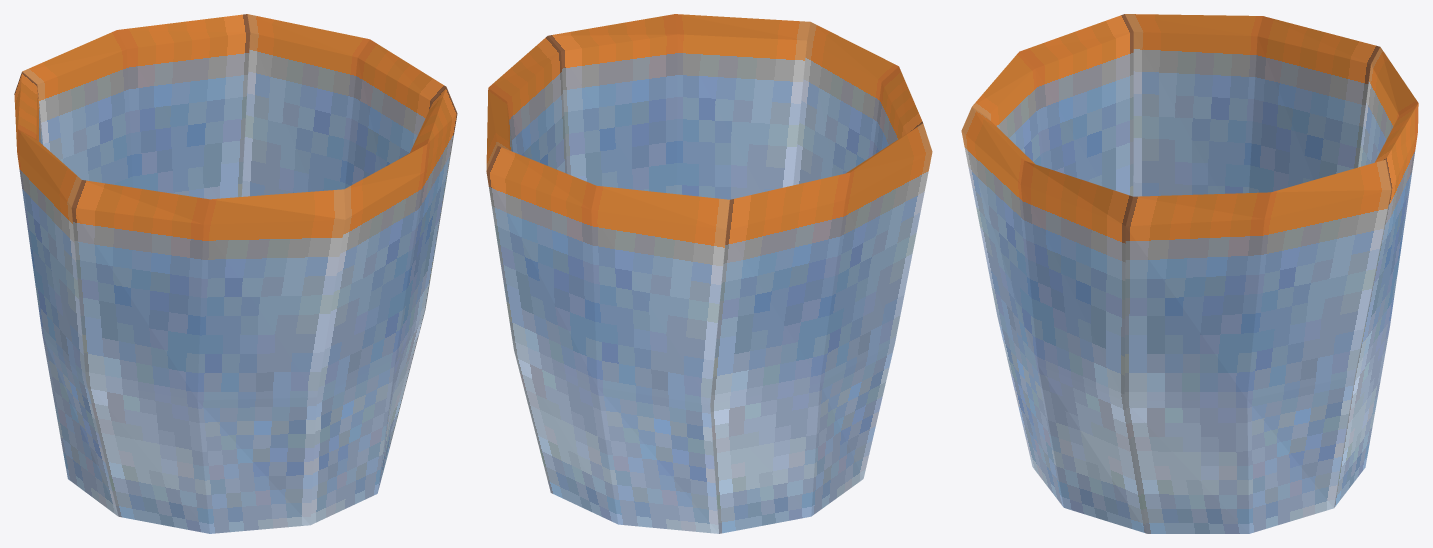
File: HoopNet02.glb
3 views of the same model, side by side, from view 1: azimuth 30°, elevation 25°; view 2: azimuth 150°, elevation 25°; view 3: azimuth 270°, elevation 25° (orthographic).
Visible parts, largest first — view 1: HoopNet02; view 2: HoopNet02; view 3: HoopNet02.
Boxes of the visible parts, box(x1,y1,x2,y2) form: HoopNet02: box(14, 14, 457, 533); HoopNet02: box(486, 14, 932, 533); HoopNet02: box(961, 14, 1418, 533).
Size of the model in its own units: 97.75 by 86.39 by 98.82.
Materials: 1 (1 with a texture image).
